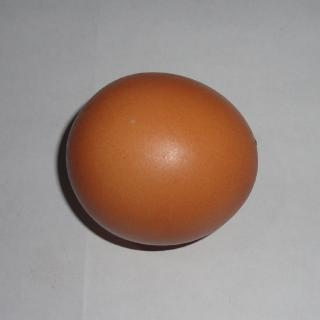Telur: (58, 63, 270, 261)
